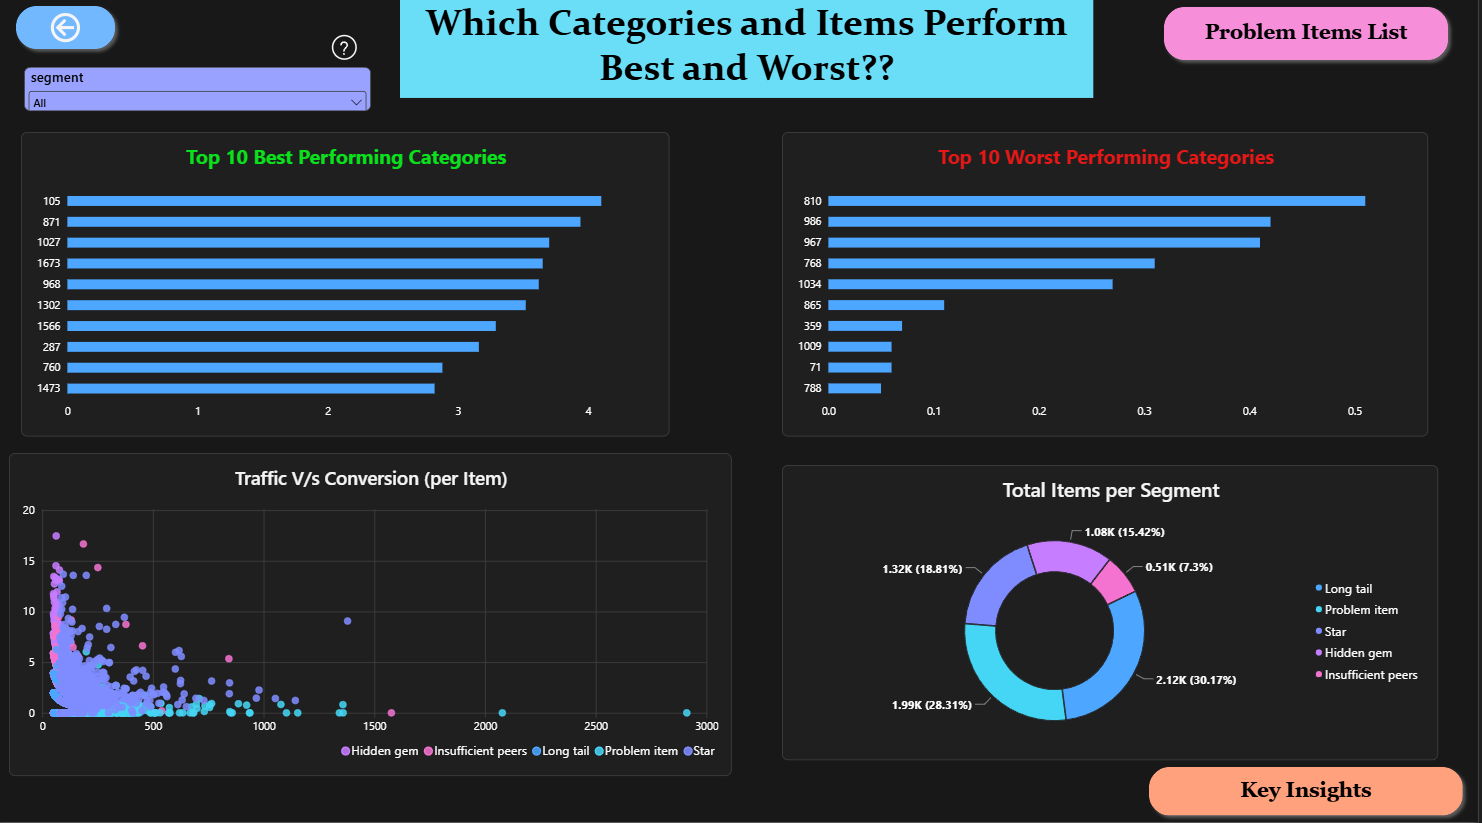

The page's visual inventory and layout, read from the dashboard file:
{"tool":"powerbi","page":{"name":"Categories and items","canvas":[1920,1080],"ordinal":2},"visuals":[{"type":"slicer","fields":{"Values":["item_segments.segment"]},"box":[38.8,102.2,448.9,56.9],"z":0},{"type":"clusteredBarChart","title":"Top 10 Best Performing Categories","fields":{"Category":["category_funnel.category_id"],"Y":["Sum(category_funnel.view_to_purchase_pct)"]},"box":[34.9,186.3,839.2,393.8],"z":1000},{"type":"clusteredBarChart","title":"Top 10 Worst Performing Categories","fields":{"Category":["top 10 worst categories.category_id"],"Y":["Sum(top 10 worst categories.view_to_purchase_pct)"]},"box":[1019.5,186.3,836.1,393.5],"z":2000},{"type":"scatterChart","title":"Traffic V/s Conversion (per Item)","fields":{"Category":["item_segments.item_id"],"Series":["item_segments.segment"],"X":["Sum(item_segments.total_viewers)"],"Y":["Sum(item_segments.view_to_purchase_pct)"]},"box":[19.4,601.6,935.4,417.9],"z":3000},{"type":"donutChart","title":"Total Items per Segment","fields":{"Category":["item_segments.segment"],"Y":["CountNonNull(item_segments.item_id)"]},"box":[1019,617.5,849.4,381.6],"z":4000},{"type":"textbox","box":[525.3,14.2,896.6,128.1],"z":5000},{"type":"actionButton","box":[1504.7,15.5,385.6,86.7],"z":6000},{"type":"actionButton","box":[19.4,14.2,146.2,73.7],"z":7000},{"type":"actionButton","box":[406.3,51.8,94.4,50.5],"z":8000},{"type":"actionButton","box":[1485.4,999.1,424,80.8],"z":11000}]}

Visuals, with their boxes in screenshot pixels (x1, y1, x2, y2), scaled from the page's 1920x1080 canvas onto the 1482x823 screenshot:
slicer - item_segments.segment: x1=30, y1=78, x2=376, y2=121
"Top 10 Best Performing Categories" clusteredBarChart: x1=27, y1=142, x2=675, y2=442
"Top 10 Worst Performing Categories" clusteredBarChart: x1=787, y1=142, x2=1432, y2=442
"Traffic V/s Conversion (per Item)" scatterChart: x1=15, y1=458, x2=737, y2=777
"Total Items per Segment" donutChart: x1=787, y1=471, x2=1442, y2=761
textbox: x1=405, y1=11, x2=1098, y2=108
actionButton: x1=1161, y1=12, x2=1459, y2=78
actionButton: x1=15, y1=11, x2=128, y2=67
actionButton: x1=314, y1=39, x2=386, y2=78
actionButton: x1=1147, y1=761, x2=1474, y2=822
